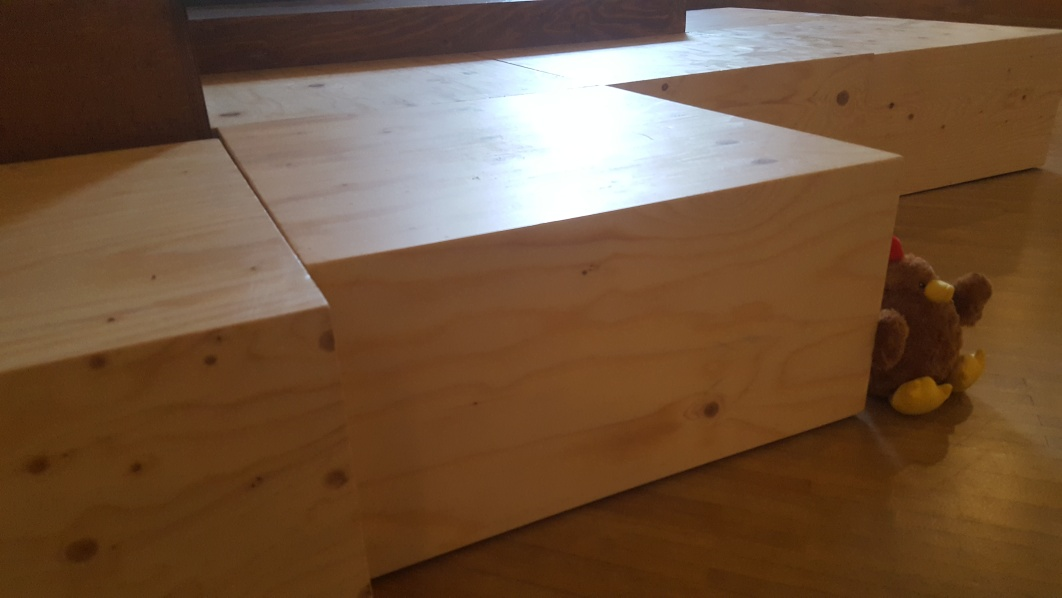chicken: (874, 235, 996, 411)
